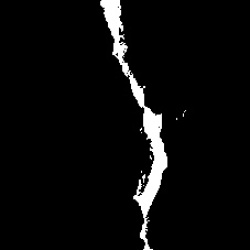crack: (100, 2, 170, 248)
